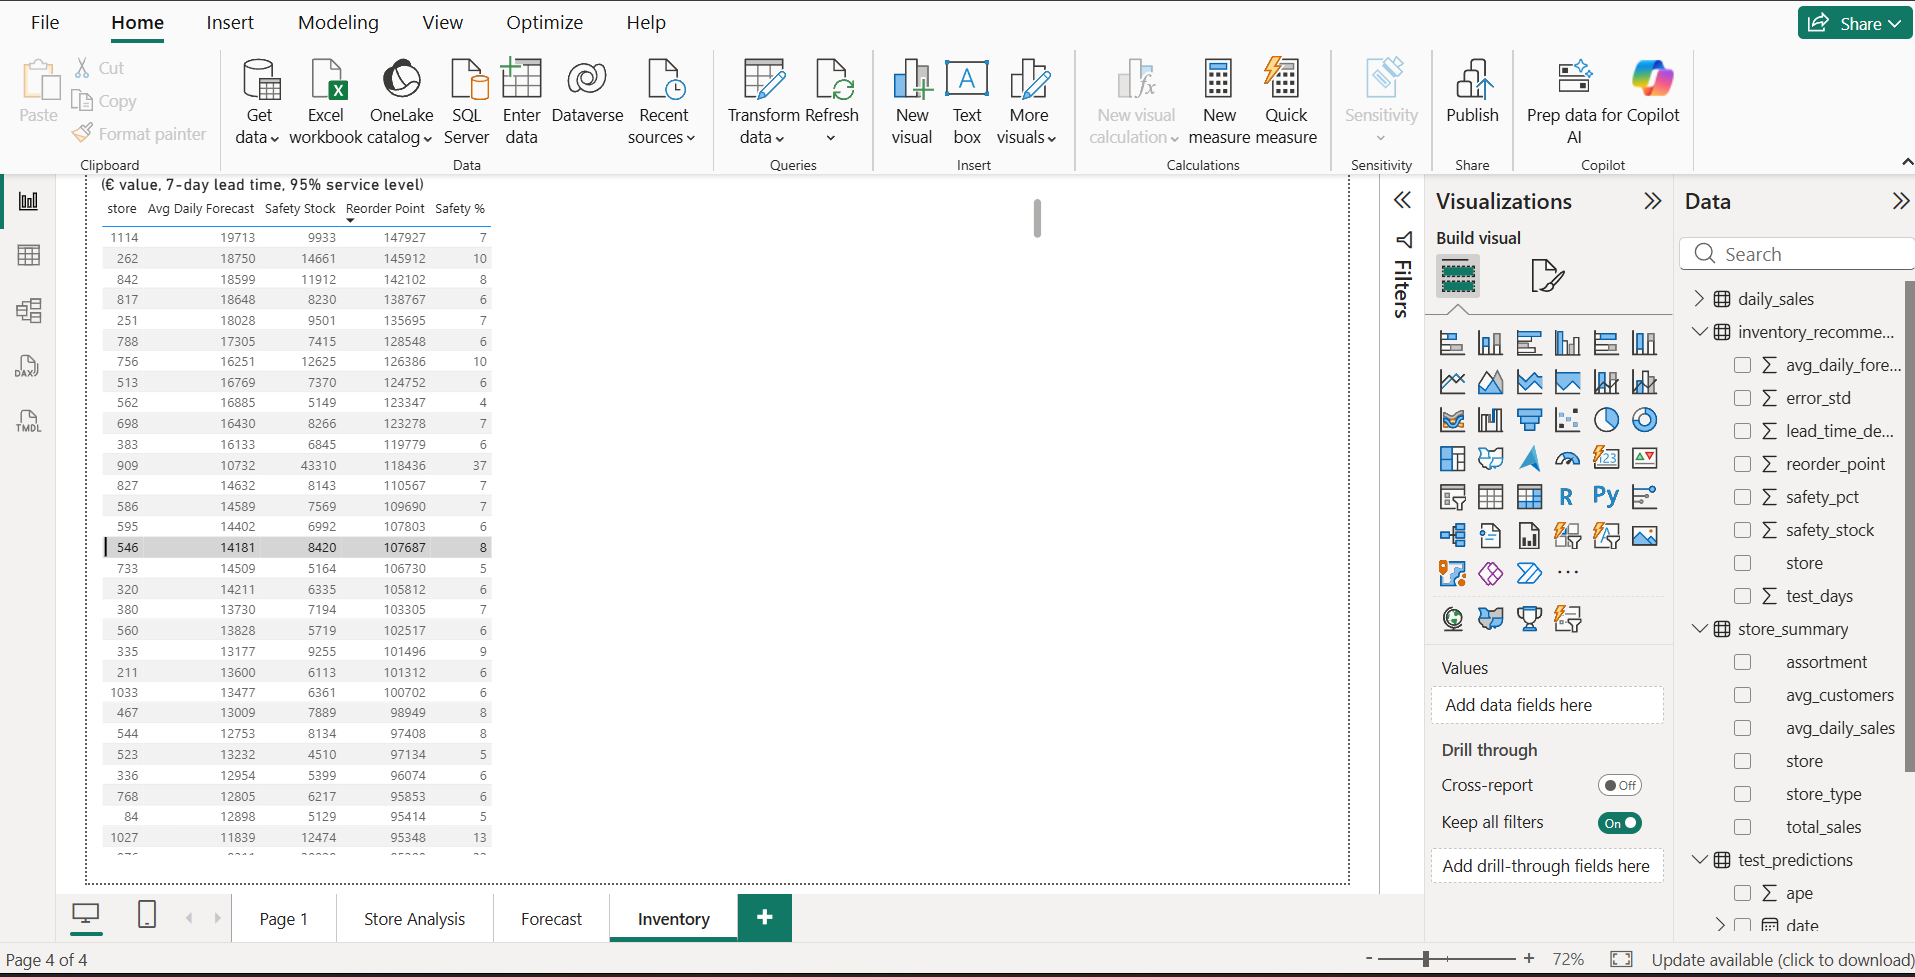

The page's visual inventory and layout, read from the dashboard file:
{"tool":"powerbi","page":{"name":"Inventory","canvas":[1280,720],"ordinal":3},"visuals":[{"type":"tableEx","title":"(€ value, 7-day lead time, 95% service level)","fields":{"Values":["inventory_recommendations.store","Sum(inventory_recommendations.avg_daily_forecast)","Sum(inventory_recommendations.safety_stock)","Sum(inventory_recommendations.reorder_point)","Sum(inventory_recommendations.safety_pct)"]},"box":[9.8,0,965.1,696.9],"z":0}]}

Visuals, with their boxes on the page's 1280x720 design canvas (x1, y1, x2, y2). These are canvas units, not pixel positions in the 1915x977 screenshot, which may show the page scaled, cropped or inside an application window:
"(€ value, 7-day lead time, 95% service level)" tableEx: <box>10,0,975,697</box>
